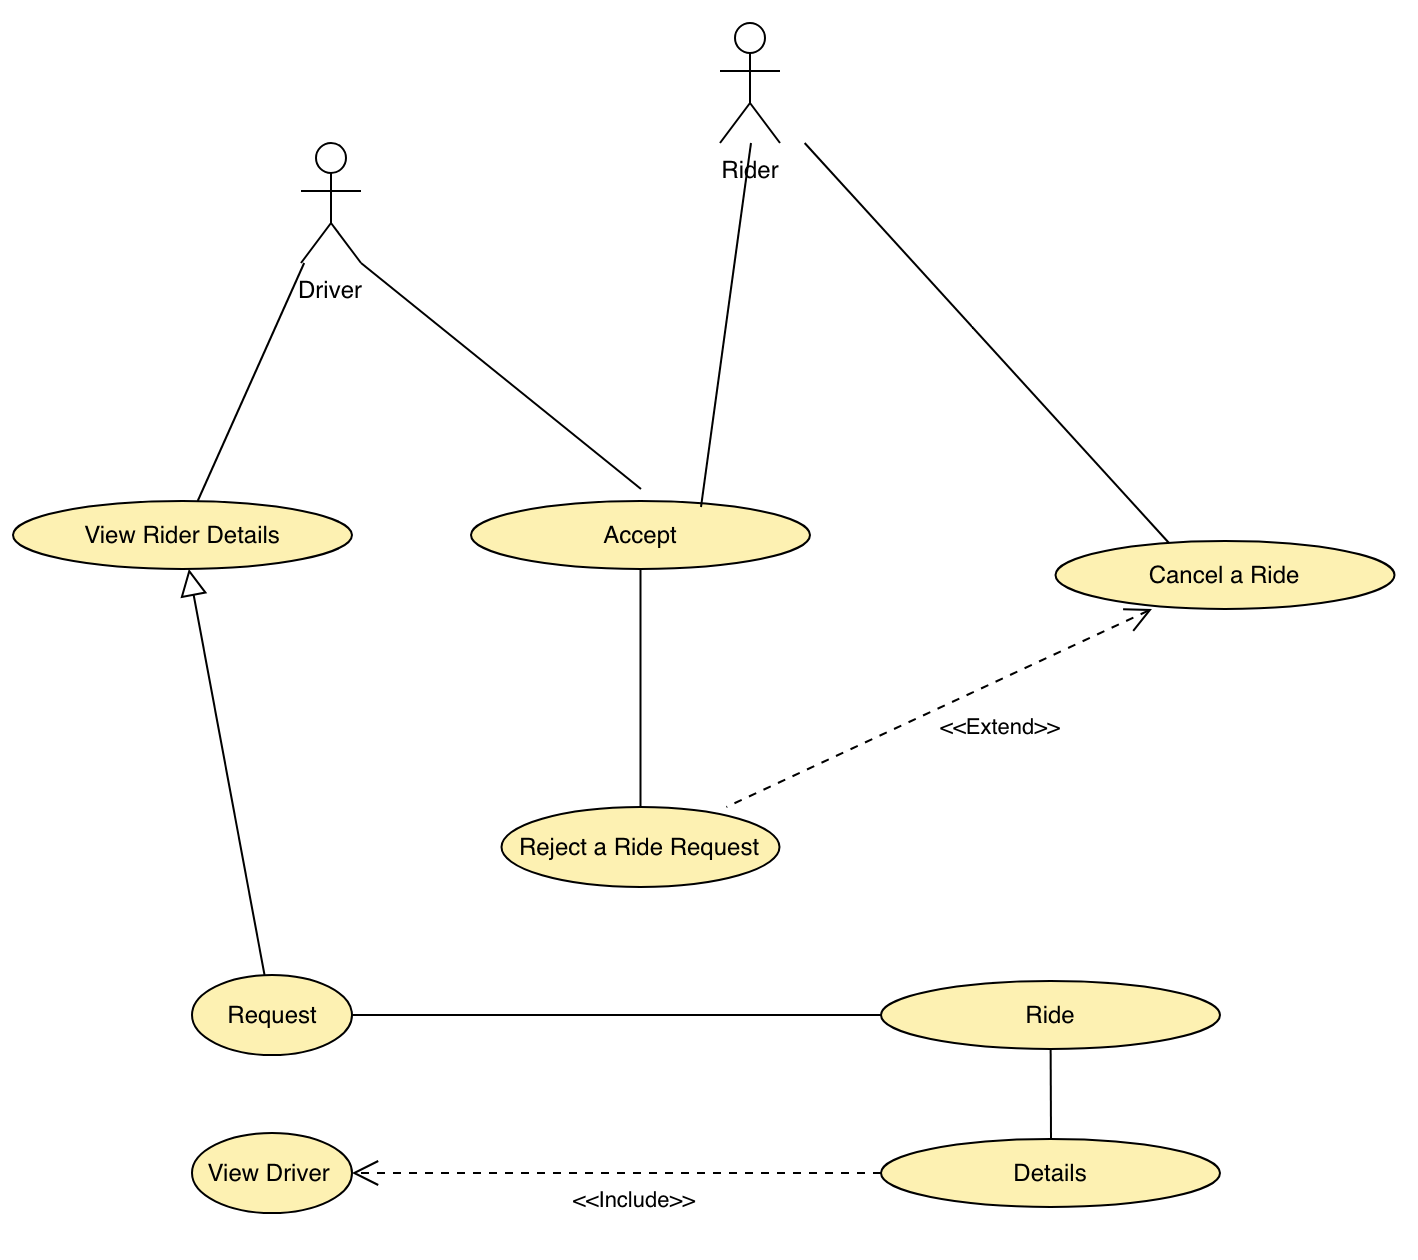actor: (711, 18, 782, 150), (296, 134, 361, 261)
association: (800, 137, 1167, 539), (735, 604, 1153, 811), (366, 259, 645, 493), (178, 570, 268, 975), (354, 988, 878, 1037), (199, 261, 306, 496), (694, 142, 754, 504), (354, 1152, 880, 1189), (614, 570, 664, 805), (1024, 1047, 1076, 1137)
text: (510, 825, 769, 870), (79, 514, 293, 556), (1138, 559, 1321, 595), (562, 1180, 711, 1217), (932, 707, 1064, 747), (226, 989, 328, 1036), (203, 1155, 334, 1192), (1003, 1151, 1102, 1196), (593, 517, 694, 556), (1015, 995, 1095, 1040), (296, 272, 375, 311), (711, 154, 794, 190)
use_case: (877, 1134, 1222, 1213), (466, 497, 814, 575), (878, 977, 1223, 1054), (10, 497, 358, 574), (1052, 538, 1397, 612), (497, 803, 783, 891), (187, 971, 355, 1061), (188, 1127, 358, 1216)
